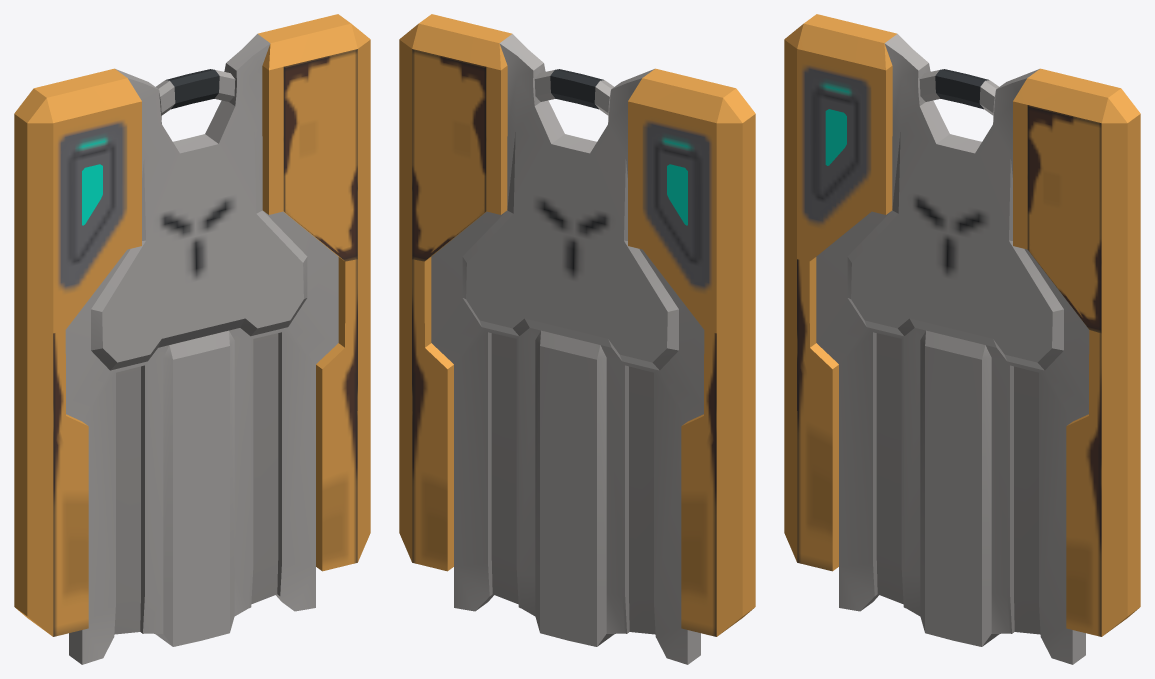
Rendered from SM_key.FBX.
The picture shows the model from 3 angles, left to right: view 1: azimuth 30°, elevation 25°; view 2: azimuth 150°, elevation 25°; view 3: azimuth 330°, elevation 25°; orthographic projection.
Parts seen in each view (by area): view 1: key; view 2: key; view 3: key.
Part boxes in pixels (box(x1,y1,x2,y2)): key: box(14, 14, 370, 664); key: box(399, 14, 755, 664); key: box(784, 14, 1140, 664).
Size of the model in its own units: 12.84 by 20.66 by 1.69.
2 materials, 2 textured.
